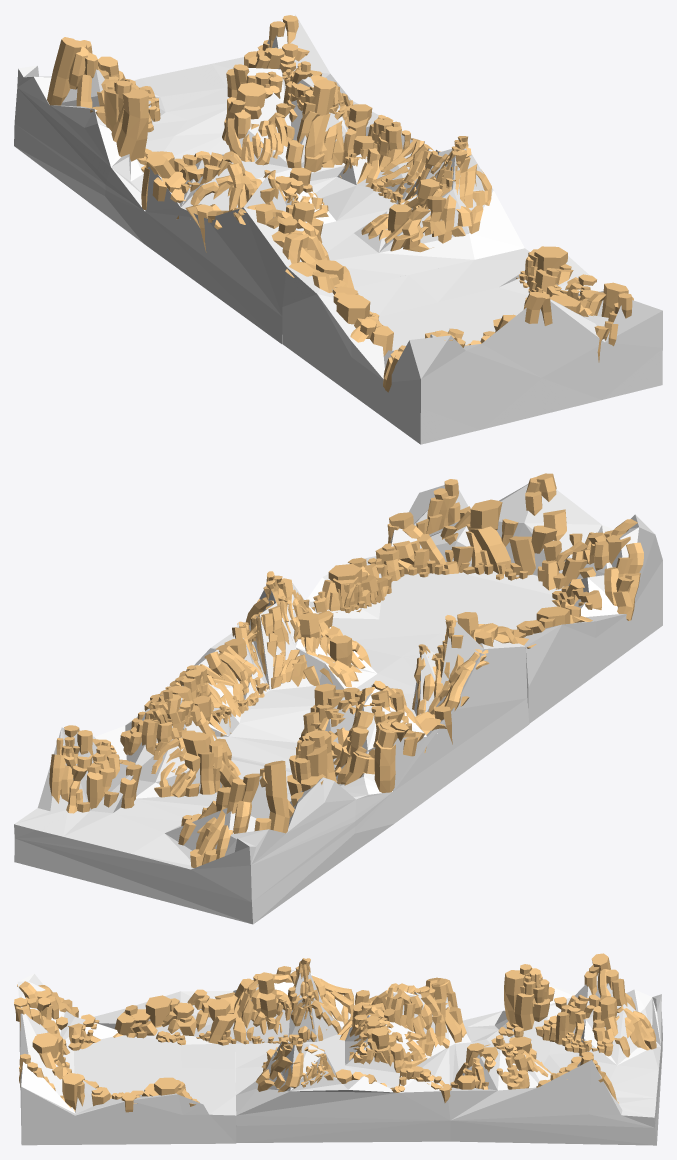
Rendered from christmasTerrainStraightLong.dae.
3 renders of one model, top to bottom at view 1: azimuth 30°, elevation 25°; view 2: azimuth 150°, elevation 25°; view 3: azimuth 270°, elevation 25°, orthographic. The views are drawn at different scales.
Parts seen in each view (by area): view 1: snowTerrainLongStraight; view 2: snowTerrainLongStraight; view 3: snowTerrainLongStraight.
Part boxes in pixels (x1,y1,x2,y2): snowTerrainLongStraight: [14, 14, 662, 444]; snowTerrainLongStraight: [14, 473, 662, 924]; snowTerrainLongStraight: [14, 953, 662, 1145].
Bounding box in the file's own units: 1.58 × 4.41 × 0.798.
